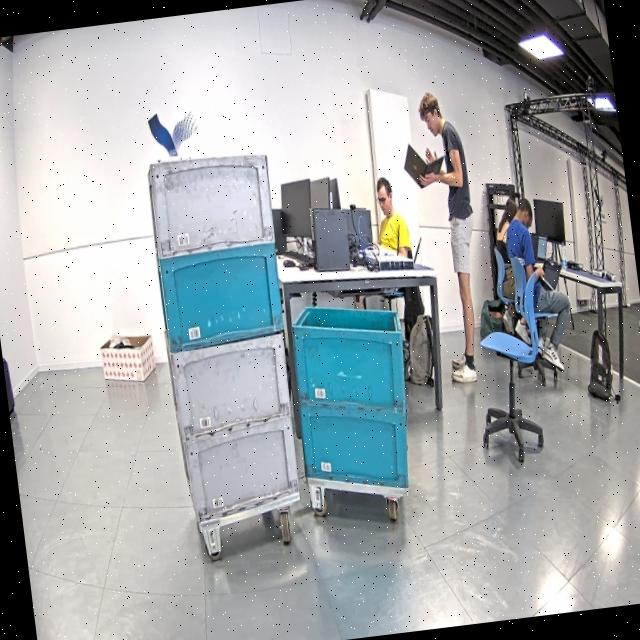Box4G: (142, 148, 282, 264), (165, 327, 298, 442), (177, 412, 309, 523)
BoxB4: (284, 298, 419, 426), (154, 238, 292, 354), (292, 388, 418, 501)
